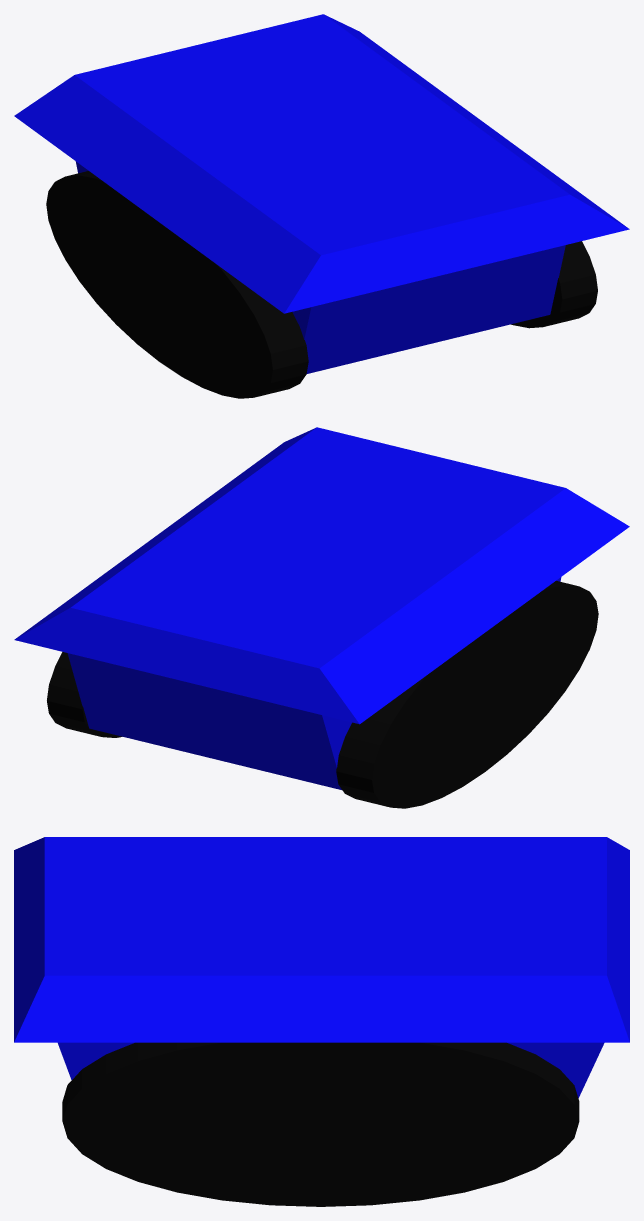
The model's file is TankUnder.gltf.
The picture shows the model from 3 angles, top to bottom: view 1: azimuth 30°, elevation 25°; view 2: azimuth 150°, elevation 25°; view 3: azimuth 270°, elevation 25°; orthographic projection. The views are drawn at different scales.
Visible parts, largest first — view 1: 立方体, 円柱, Cube, 円柱.001; view 2: 立方体, 円柱, Cube, 円柱.001; view 3: 立方体, 円柱.001, Cube.
Part boxes in pixels (x1,y1,x2,y2): 立方体: (14,14,629,313); 円柱: (46,171,308,398); Cube: (75,161,565,373); 円柱.001: (511,241,597,328); 立方体: (14,427,629,724); 円柱: (336,580,598,808); Cube: (67,577,561,789); 円柱.001: (47,652,122,737); 立方体: (14,837,629,1042); 円柱.001: (62,1042,579,1206); Cube: (58,1042,604,1098).
Size of the model in its own units: 2 by 1.03 by 2.71.
